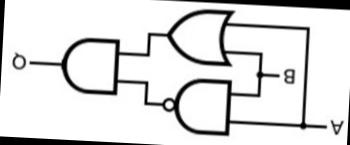and: (54, 33, 120, 101)
nand: (158, 72, 236, 138)
or: (162, 1, 236, 70)
